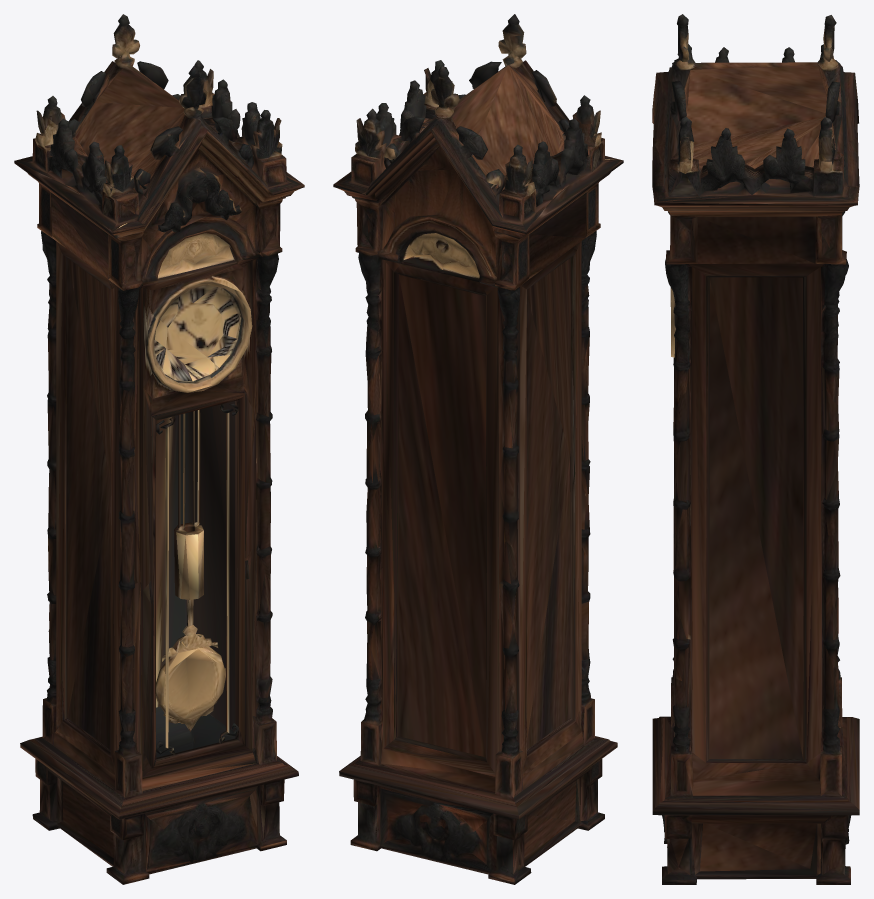
File: clock.glb
3 renders of one model, left to right at view 1: azimuth 30°, elevation 25°; view 2: azimuth 150°, elevation 25°; view 3: azimuth 270°, elevation 25°, orthographic. The views are drawn at different scales.
Visible parts, largest first — view 1: body; view 2: body; view 3: body.
Part boxes in pixels (x1=…): body: x1=14, y1=14, x2=304, y2=884; body: x1=333, y1=14, x2=623, y2=884; body: x1=652, y1=14, x2=859, y2=884.
Size of the model in its own units: 0.536 by 2.1 by 0.4768.
Materials: 1 (1 with a texture image).
